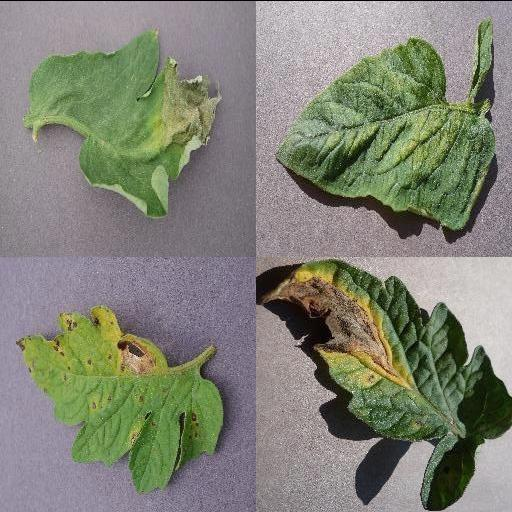Early Blight: (262, 256, 512, 512)
Late Blight: (24, 28, 224, 220)
Septoria: (13, 305, 223, 491)
Spider Mites: (274, 38, 494, 228)
